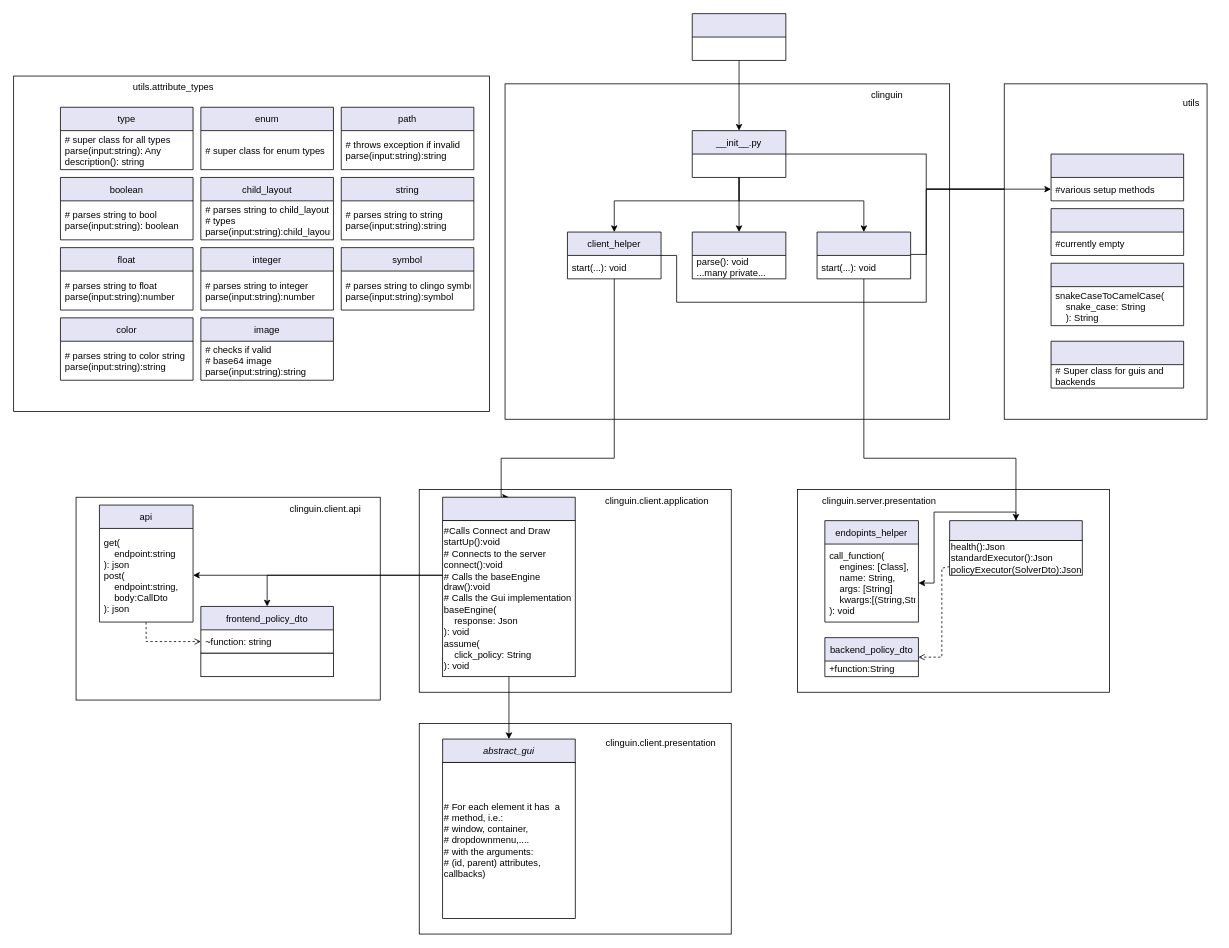
This 1229x948 diagram has some shape labels left out. The shapes that lost their labels are listed below. From the top down, each one's box as (x1, y1, x2, y2) in pixels, then its label:
(691, 13, 786, 60): start
(1050, 153, 1184, 201): logger
(1050, 208, 1184, 255): errors
(691, 231, 786, 279): parse_input
(816, 231, 911, 279): server_helper
(1050, 262, 1184, 326): case_converter
(1050, 340, 1184, 388): custom_args
(442, 496, 575, 521): client_base
(949, 520, 1082, 541): endpoints
(200, 652, 333, 677): toJSON(): Json
